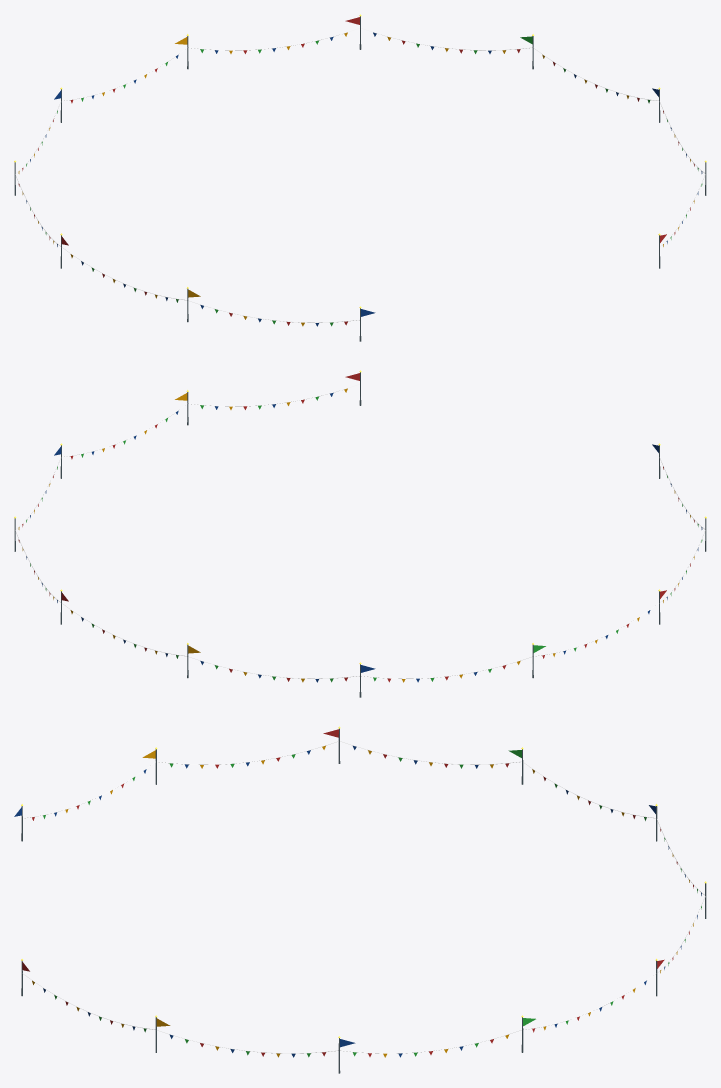
The model's file is PS_Arena_Flags.glb.
3 renders of one model, top to bottom at view 1: azimuth 30°, elevation 25°; view 2: azimuth 150°, elevation 25°; view 3: azimuth 270°, elevation 25°, orthographic. The views are drawn at different scales.
Parts seen in each view (by area): view 1: Flags & Bunting; view 2: Flags & Bunting; view 3: Flags & Bunting.
Boxes of the visible parts, x1,y1,x2,y2 form: Flags & Bunting: (14, 14, 706, 341); Flags & Bunting: (14, 370, 706, 697); Flags & Bunting: (14, 726, 706, 1073).
Bounding box in the file's own units: 268 × 15.12 × 253.
2 materials, 2 textured.
